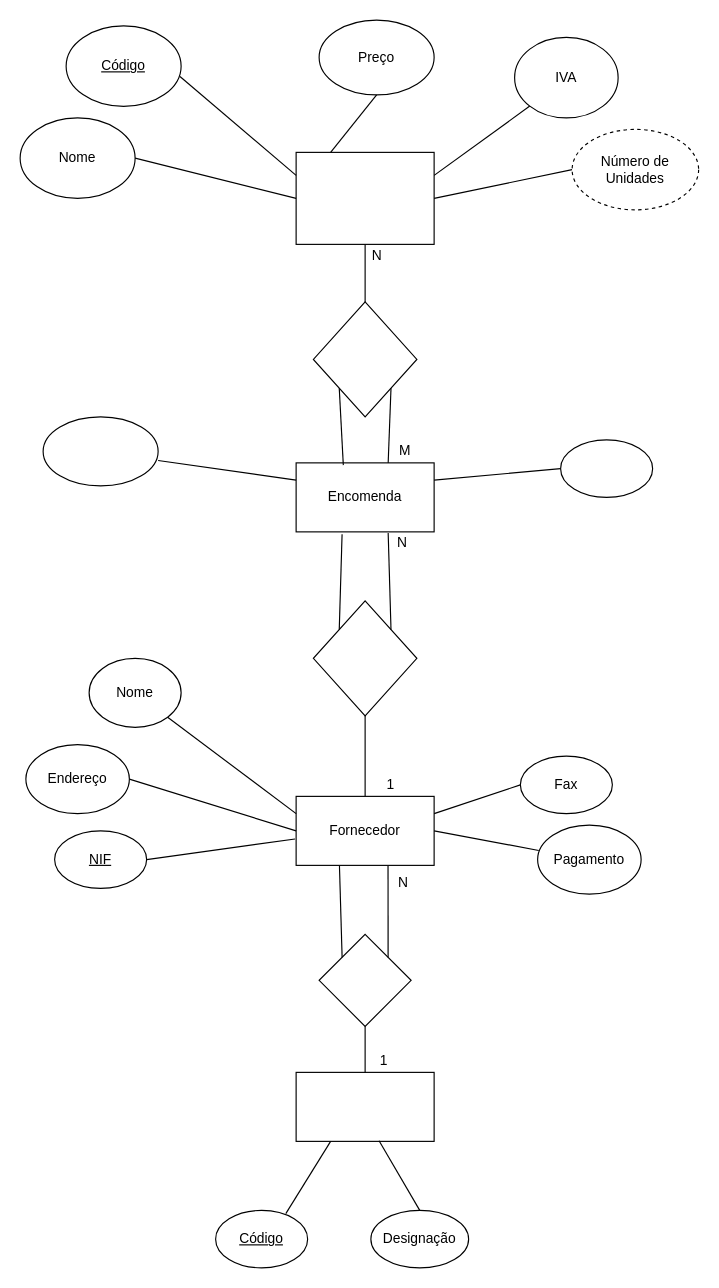
Image size: 719x1288. Some labels were removed from this diagram. Each missing label, with the centre of its shape:
"Contém" belongs at [364,359].
"Data" belongs at [606,468].
"Número da Encomenda" belongs at [100,451].
"Produto" belongs at [364,197].
"Realizada" belongs at [364,658].
"Tem" belongs at [364,979].
"Tipo de Fornecedor" belongs at [364,1106].
